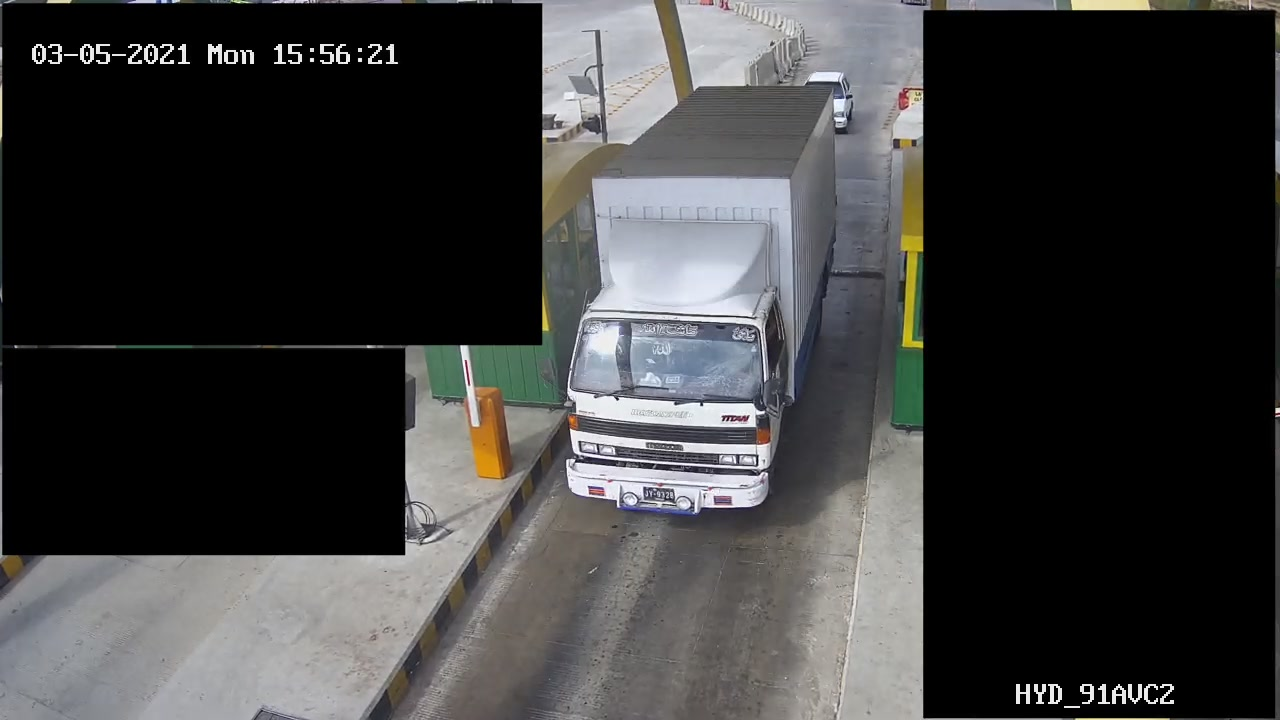F5: (555, 80, 841, 517)
